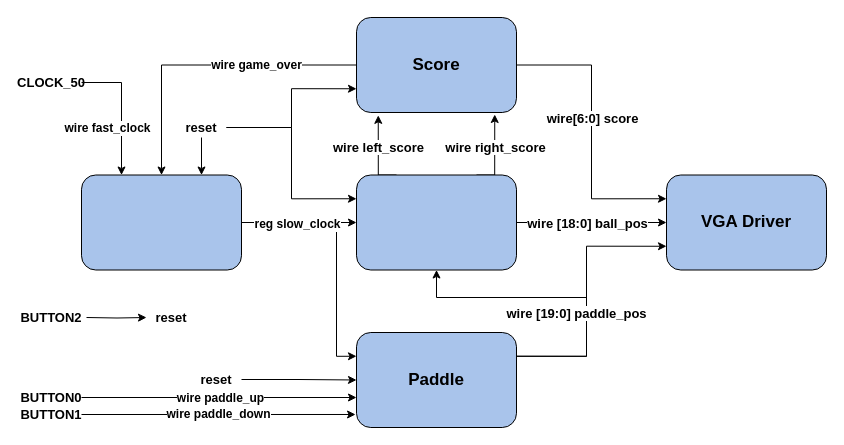
Image size: 844x445. Some labels were removed from this diagram. Here are the shapes that lost their labels. From the top down, the centre of each, then its label:
At [161,222]: "Slow Clock".
At [436,222]: "Ball".
